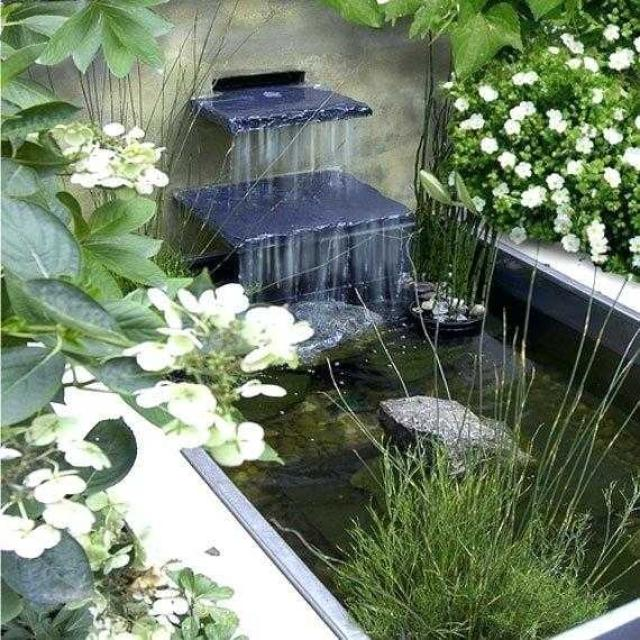Ponds: (138, 244, 640, 640)
